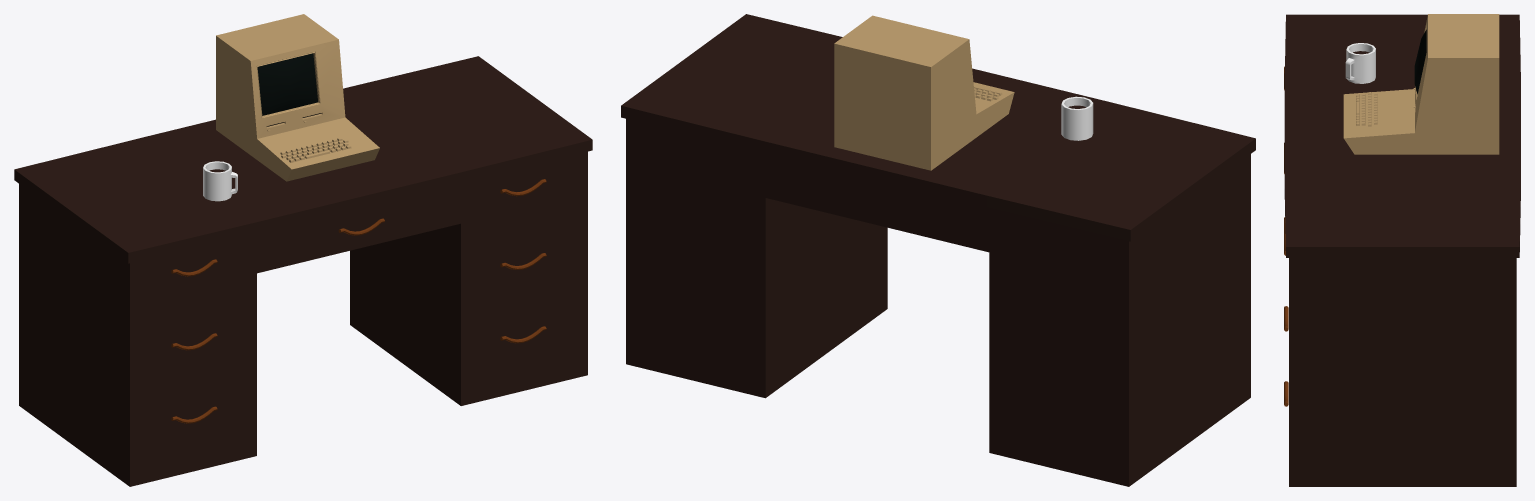
File: desk_computer.FBX
The picture shows the model from 3 angles, left to right: view 1: azimuth 30°, elevation 25°; view 2: azimuth 150°, elevation 25°; view 3: azimuth 270°, elevation 25°; orthographic projection. The views are drawn at different scales.
Visible parts, largest first — view 1: Box004; view 2: Box004; view 3: Box004.
Boxes of the visible parts, x1,y1,x2,y2 form: Box004: [14, 14, 592, 486]; Box004: [621, 14, 1255, 486]; Box004: [1284, 14, 1520, 486].
Size of the model in its own units: 89.98 by 61.15 by 38.83.
